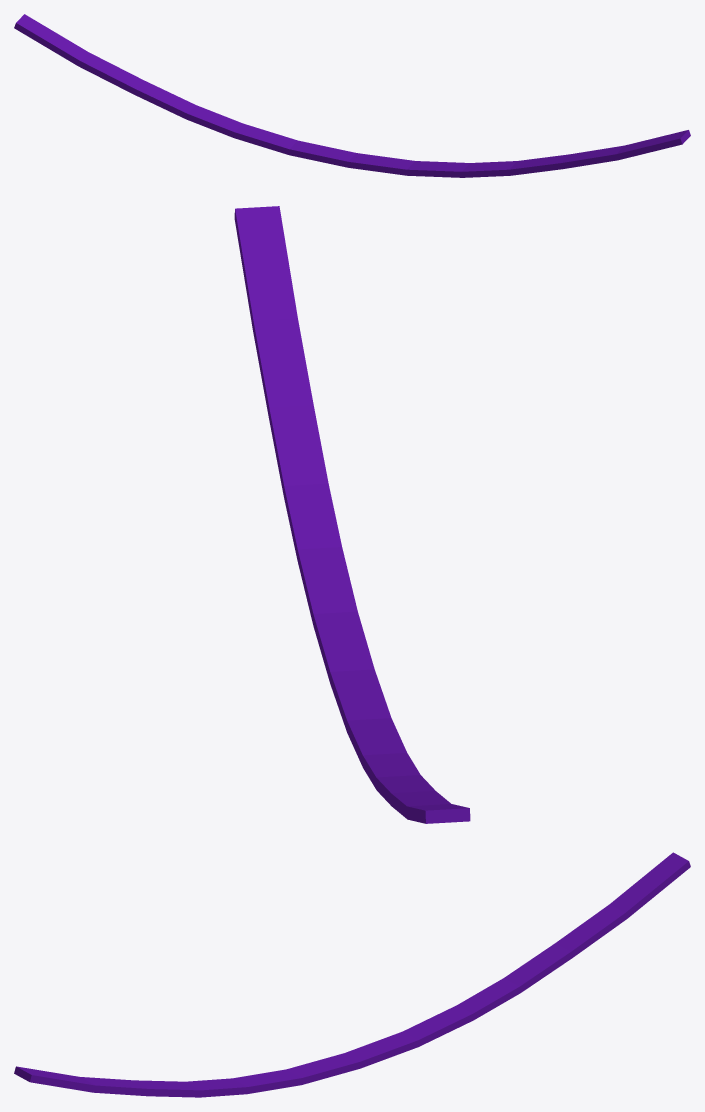
File: Tape_9_chunks.fbx
The picture shows the model from 3 angles, top to bottom: view 1: azimuth 30°, elevation 25°; view 2: azimuth 150°, elevation 25°; view 3: azimuth 270°, elevation 25°; orthographic projection. The views are drawn at different scales.
Parts seen in each view (by area): view 1: Tape_9_0, Tape_9_3, Tape_9_2, Tape_9_1; view 2: Tape_9_3, Tape_9_0, Tape_9_2, Tape_9_1; view 3: Tape_9_0, Tape_9_3, Tape_9_2, Tape_9_1.
Part boxes in pixels (left/top/right/bottom): Tape_9_0: left=14, top=14, right=334, bottom=162; Tape_9_3: left=475, top=130, right=690, bottom=174; Tape_9_2: left=325, top=155, right=522, bottom=177; Tape_9_1: left=329, top=147, right=428, bottom=161; Tape_9_3: left=234, top=206, right=329, bottom=543; Tape_9_0: left=338, top=683, right=470, bottom=823; Tape_9_2: left=291, top=487, right=380, bottom=685; Tape_9_1: left=309, top=598, right=362, bottom=709; Tape_9_0: left=364, top=852, right=690, bottom=1056; Tape_9_3: left=14, top=1066, right=242, bottom=1097; Tape_9_2: left=188, top=1046, right=365, bottom=1095; Tape_9_1: left=288, top=1050, right=391, bottom=1087.
Size of the model in its own units: 493 by 103 by 630.
